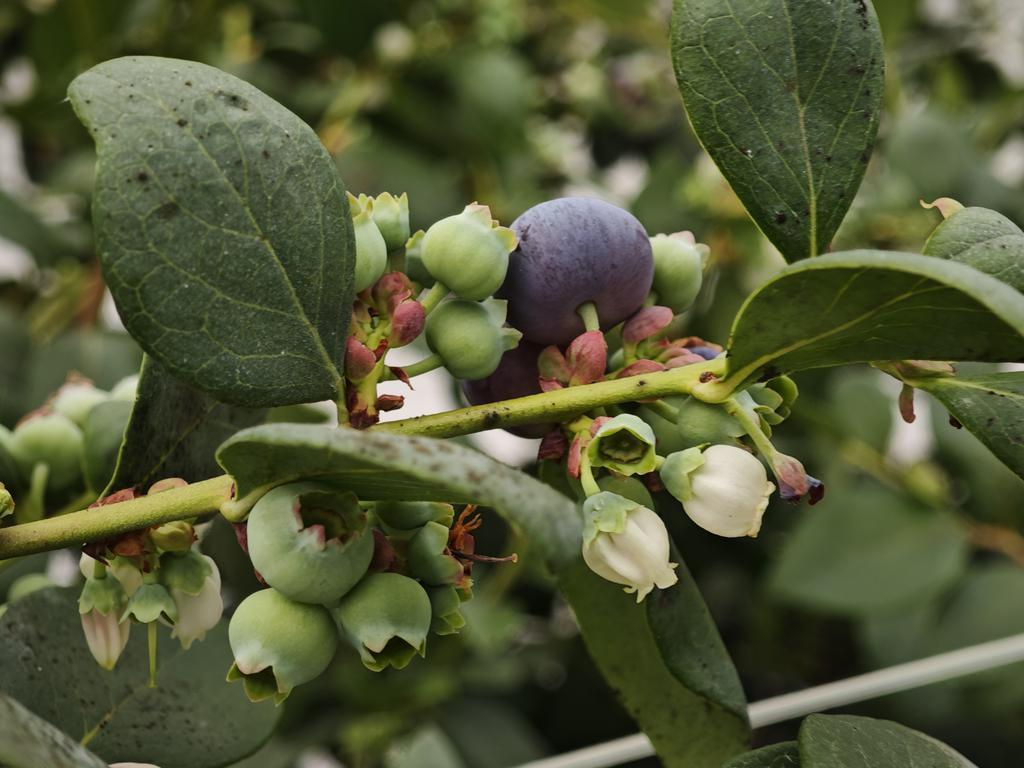RipeBlueBerry: (505, 194, 654, 338)
UnripeBlueBerry: (246, 479, 379, 604)
